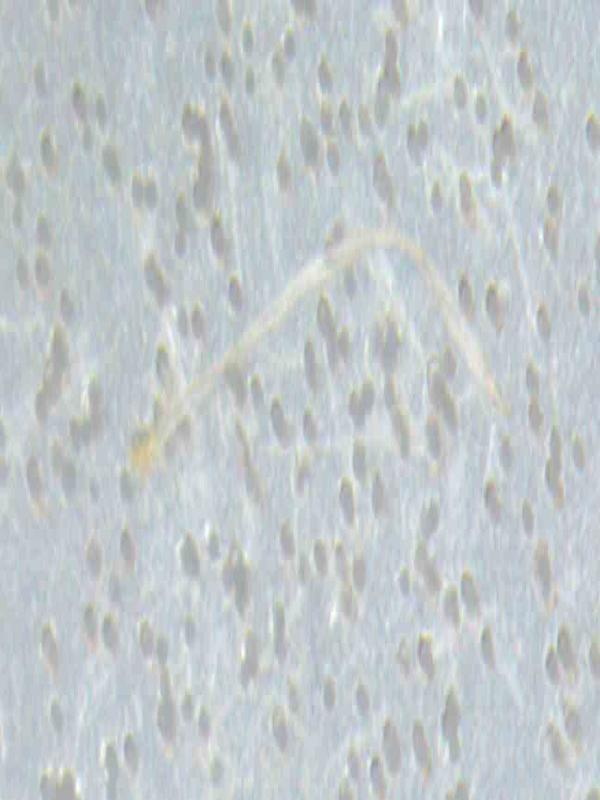microplastic: (1, 1, 598, 796)
